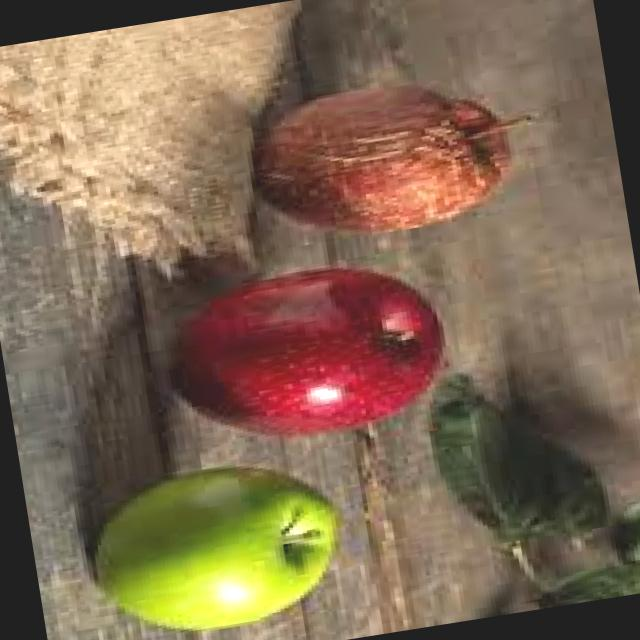Green Juicy Apple: (79, 449, 349, 640)
Red Apple: (165, 249, 455, 452)
Rotten Apple: (246, 68, 516, 254)
